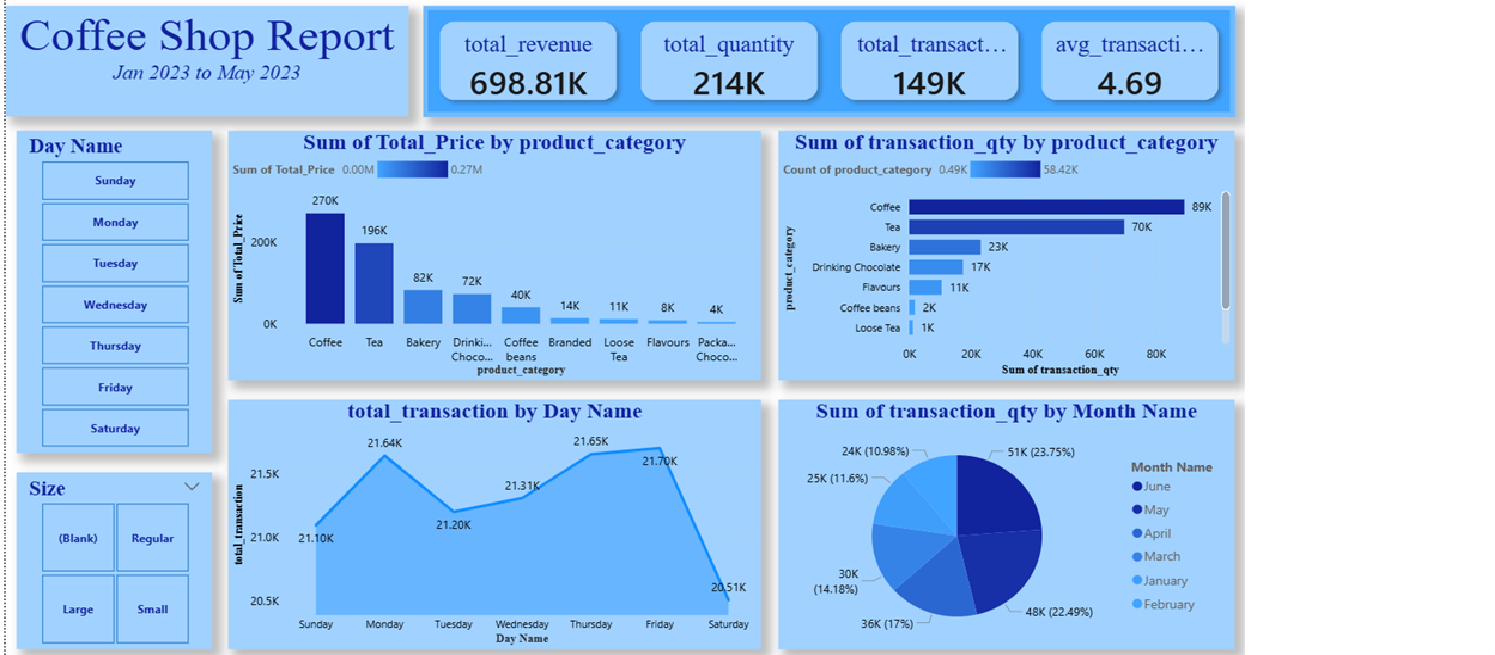

What the dashboard file says about the page in this screenshot:
{"tool":"powerbi","page":{"name":"Page 1","canvas":[1280,720],"ordinal":0},"visuals":[{"type":"cardVisual","fields":{"Data":["Coffee_Shop.total_revenue","Coffee_Shop.total_quantity","Coffee_Shop.total_transaction","Coffee_Shop.avg_transaction_value"]},"box":[426.8,15.9,830.3,119.8],"z":0},{"type":"textbox","box":[0,16.5,411.7,119.4],"z":1000},{"type":"slicer","fields":{"Values":["Coffee_Shop.Day Name"]},"box":[11,150.9,200.3,347.2],"z":2000},{"type":"clusteredColumnChart","fields":{"Y":["Sum(Coffee_Shop.Total_Price)"],"Category":["Coffee_Shop.product_category"]},"box":[227.8,150.9,544.8,269],"z":3000},{"type":"slicer","fields":{"Values":["Coffee_Shop.Size"]},"box":[11,518.7,200.3,190.7],"z":4000},{"type":"areaChart","fields":{"Category":["Coffee_Shop.Day Name"],"Y":["Coffee_Shop.total_transaction"]},"box":[227.8,440.5,544.8,269],"z":5000},{"type":"clusteredBarChart","fields":{"Category":["Coffee_Shop.product_category"],"Y":["Sum(Coffee_Shop.transaction_qty)"]},"box":[790.4,150.9,466.6,269],"z":6000},{"type":"pieChart","fields":{"Y":["Sum(Coffee_Shop.transaction_qty)"],"Category":["Coffee_Shop.Month Name"]},"box":[790.4,440.5,466.6,269],"z":7000}]}

Visuals, with their boxes on the page's 1280x720 design canvas (x1, y1, x2, y2). These are canvas units, not pixel positions in the 1495x655 screenshot, which may show the page scaled, cropped or inside an application window:
cardVisual - Coffee_Shop.total_revenue x Coffee_Shop.total_quantity: 427 16 1257 136
textbox: 0 16 412 136
slicer - Coffee_Shop.Day Name: 11 151 211 498
clusteredColumnChart - Sum(Coffee_Shop.Total_Price) x Coffee_Shop.product_category: 228 151 773 420
slicer - Coffee_Shop.Size: 11 519 211 709
areaChart - Coffee_Shop.Day Name x Coffee_Shop.total_transaction: 228 440 773 710
clusteredBarChart - Coffee_Shop.product_category x Sum(Coffee_Shop.transaction_qty): 790 151 1257 420
pieChart - Sum(Coffee_Shop.transaction_qty) x Coffee_Shop.Month Name: 790 440 1257 710
